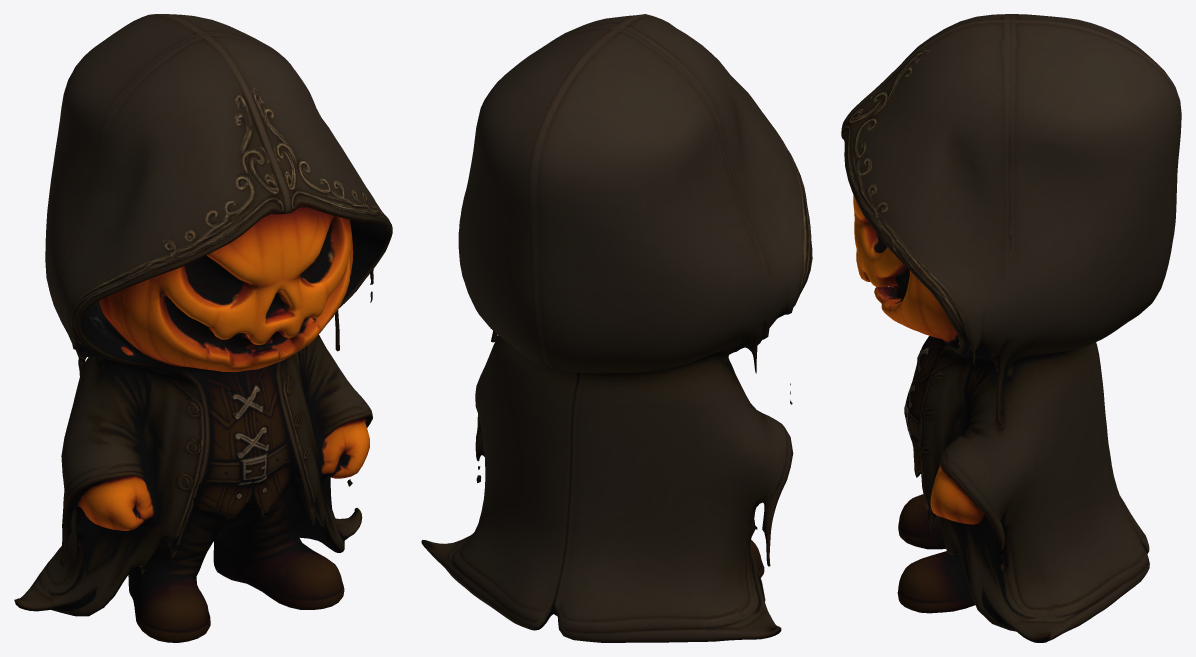
The model's file is Hallo.fbx.
3 renders of one model, left to right at view 1: azimuth 30°, elevation 25°; view 2: azimuth 150°, elevation 25°; view 3: azimuth 270°, elevation 25°, orthographic. The views are drawn at different scales.
Visible parts, largest first — view 1: Hallo; view 2: Hallo; view 3: Hallo.
Part boxes in pixels (x1=…): Hallo: x1=14, y1=14, x2=392, y2=642; Hallo: x1=421, y1=14, x2=812, y2=642; Hallo: x1=841, y1=14, x2=1181, y2=642.
Size of the model in its own units: 66.04 by 99.66 by 56.06.
Materials: 1 (1 with a texture image).
